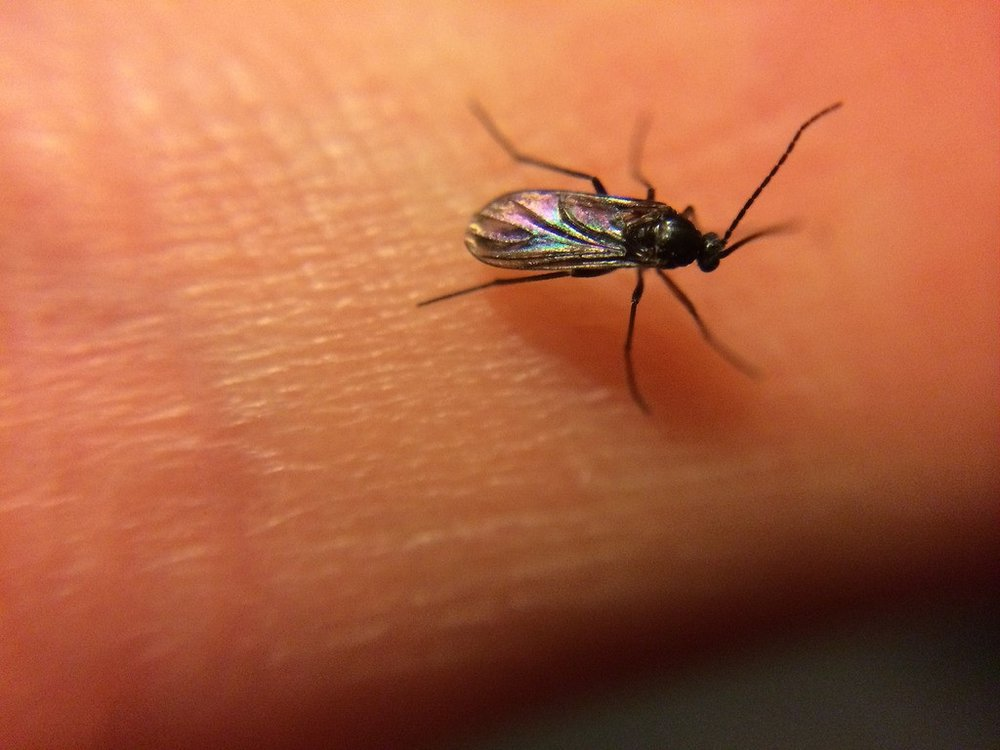Fruit fly: (440, 123, 813, 375)
